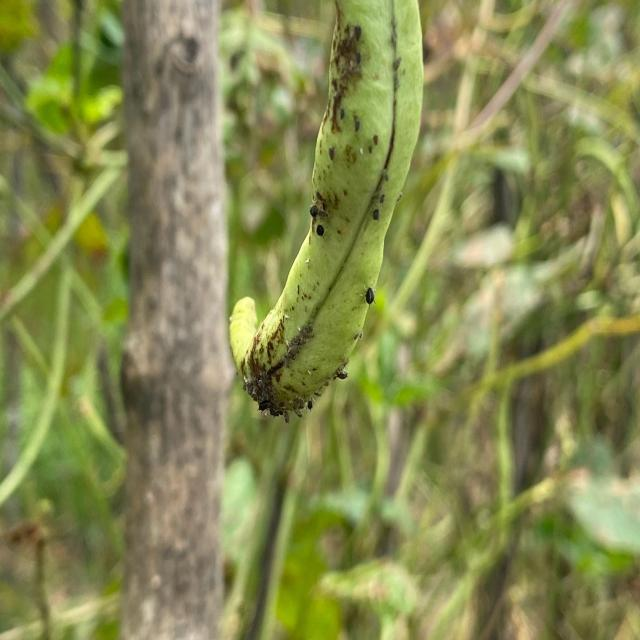sitaw-aphid-moderate: (230, 0, 423, 422)
